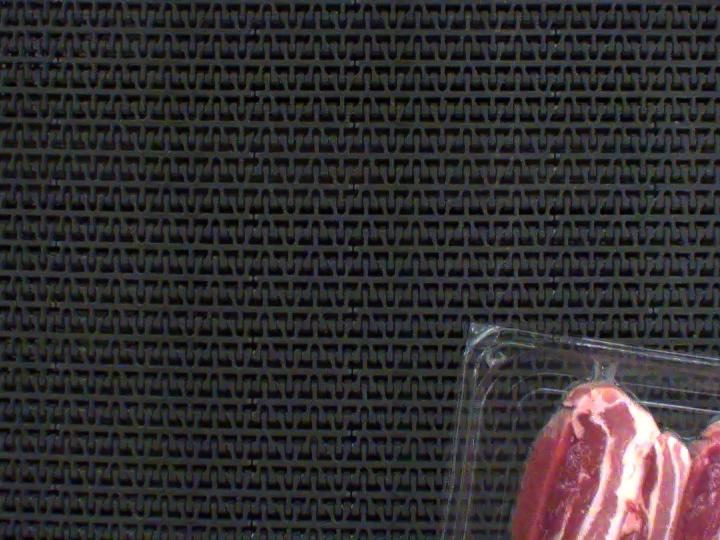packaging-error: (574, 344, 654, 391)
unsealed: (687, 388, 720, 443)
